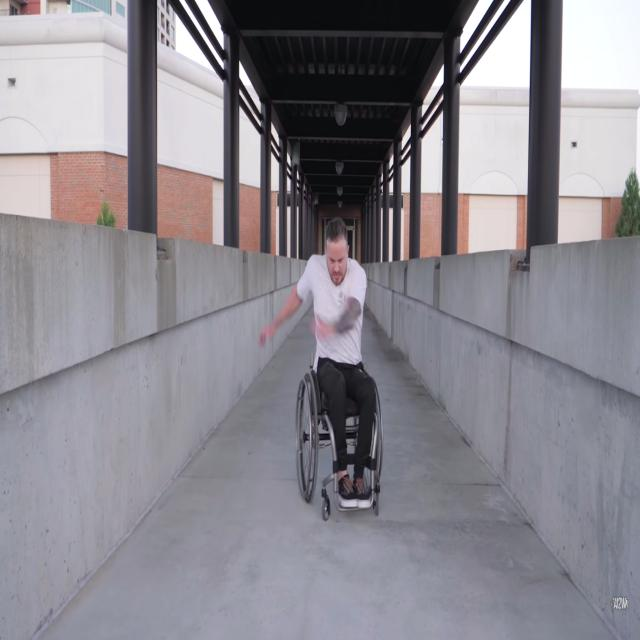wheelchairs: (288, 353, 390, 522)
